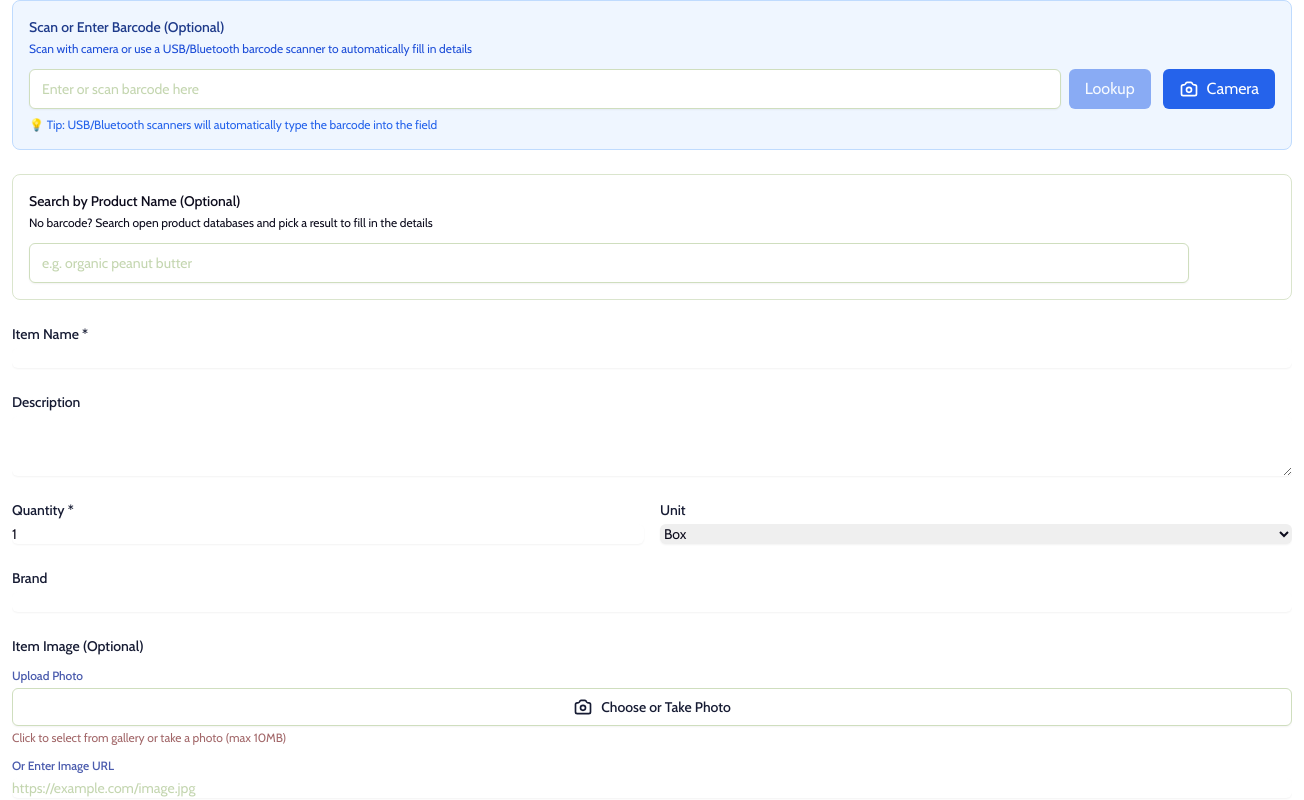
Test: AddItemForm › shows a generic message for other lookup failures
The width and height of the screenshot is (1304, 800).
In the field with placeholder "Enter or scan barcode here": (545, 89) [29, 69, 1061, 109], type "500"
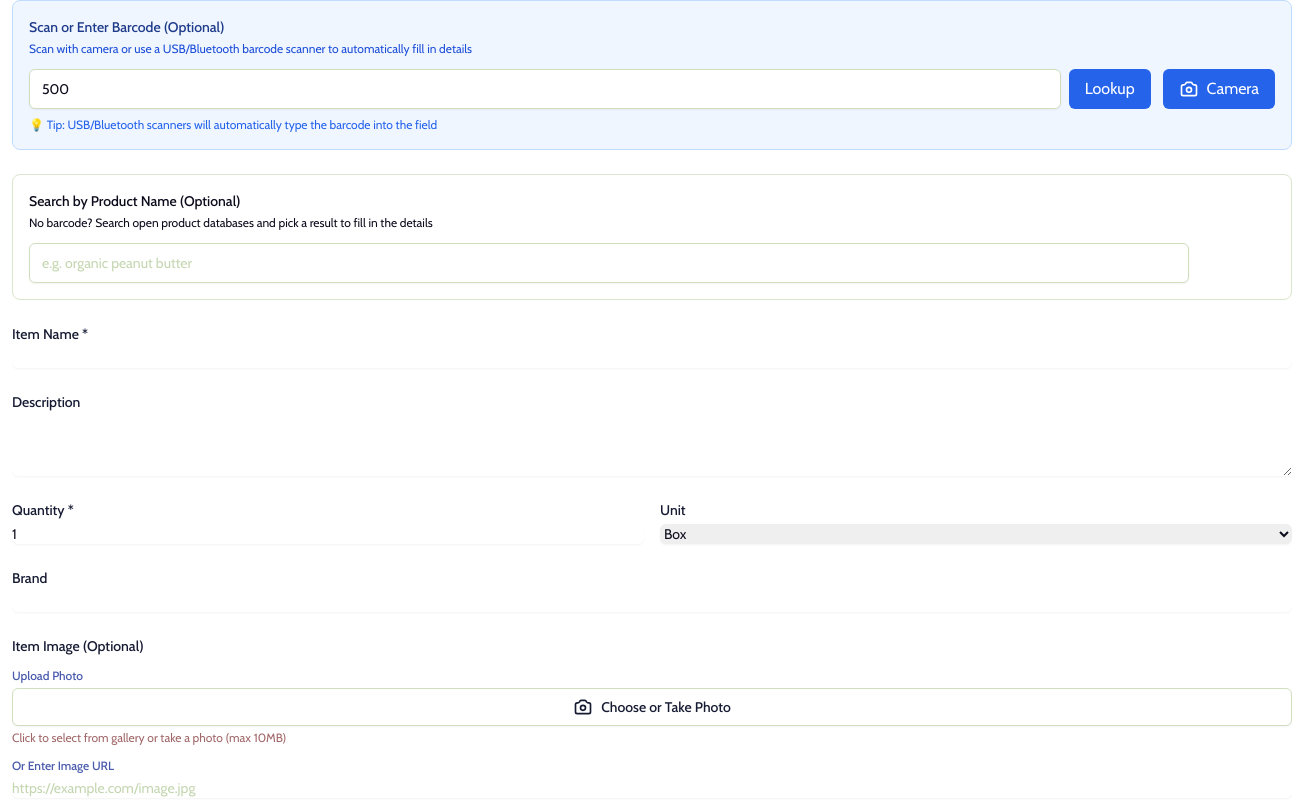
Click the button "Lookup": (1110, 89) [1069, 69, 1151, 109]
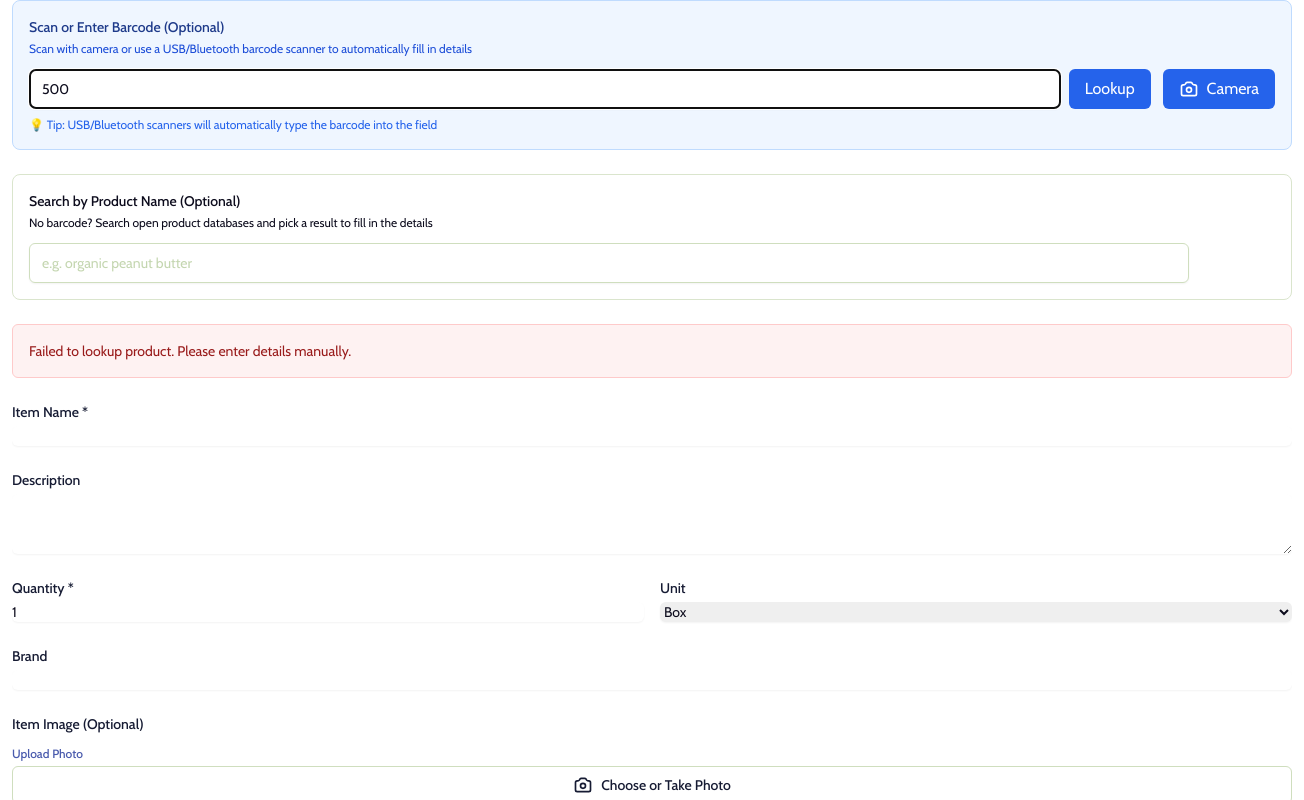
Result: the text "Failed to lookup product. Please enter details manually." is shown at [29, 342, 351, 360]
